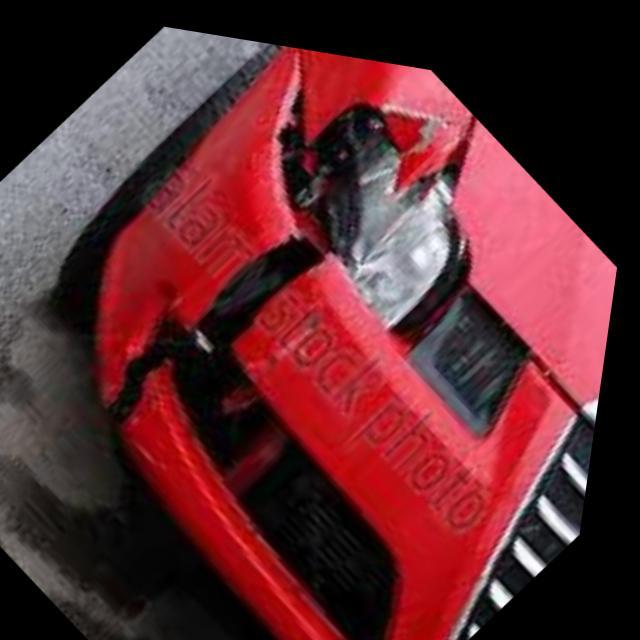crack: (105, 51, 516, 439)
